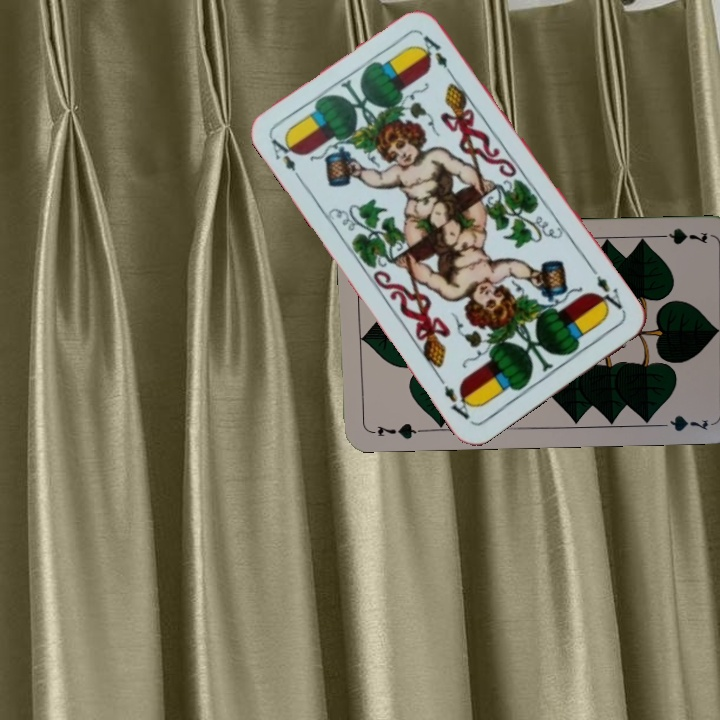EA: (267, 132, 306, 186), (588, 264, 628, 316)
G7: (651, 224, 710, 247), (366, 420, 425, 442)
